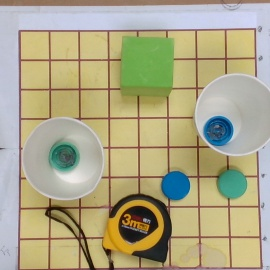blue: (159, 170, 192, 201)
cup_blue: (188, 72, 270, 159)
cup_green: (20, 116, 105, 201)
green: (217, 169, 247, 199)
